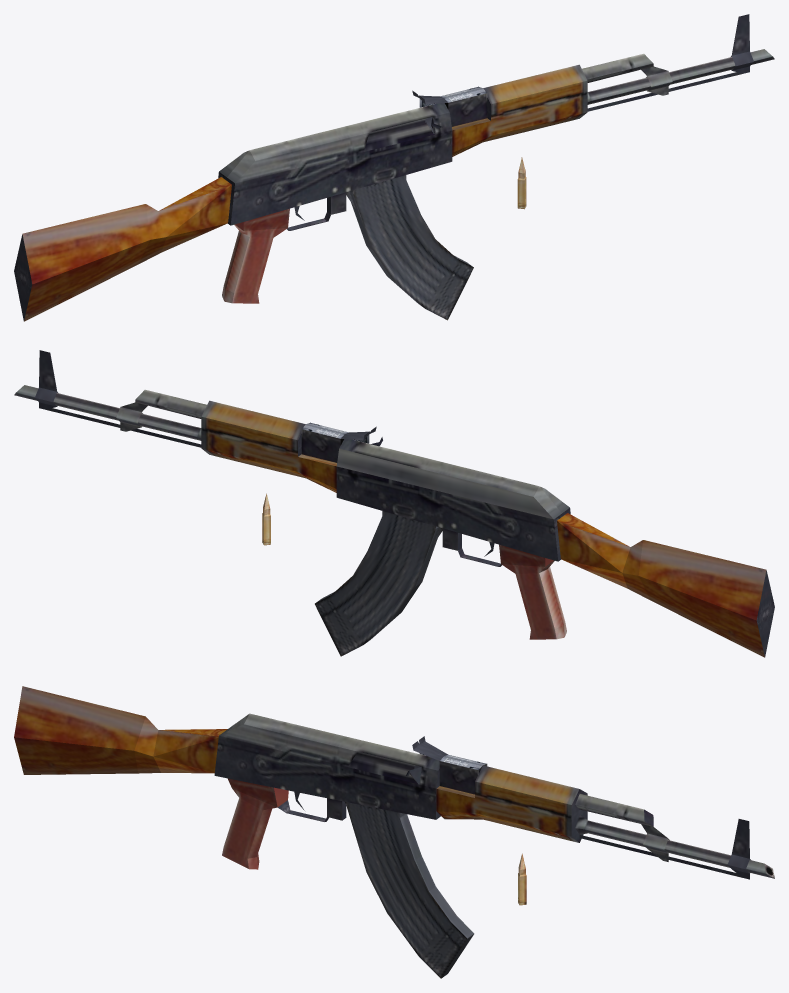
3 views of the same model, one above another, from view 1: azimuth 30°, elevation 25°; view 2: azimuth 150°, elevation 25°; view 3: azimuth 330°, elevation 25° (orthographic).
Visible parts, largest first — view 1: AKM, AKM_Mag_Empty; view 2: AKM, AKM_Mag_Empty; view 3: AKM, AKM_Mag_Empty.
Boxes of the visible parts, x1,y1,x2,y2 form: AKM: (14, 14, 774, 321); AKM_Mag_Empty: (346, 175, 473, 320); AKM: (14, 350, 774, 657); AKM_Mag_Empty: (315, 511, 442, 656); AKM: (14, 686, 774, 879); AKM_Mag_Empty: (345, 802, 474, 978).
Bounding box in the file's own units: 3.71 × 1.08 × 0.233.
Materials: 3 (3 with a texture image).
